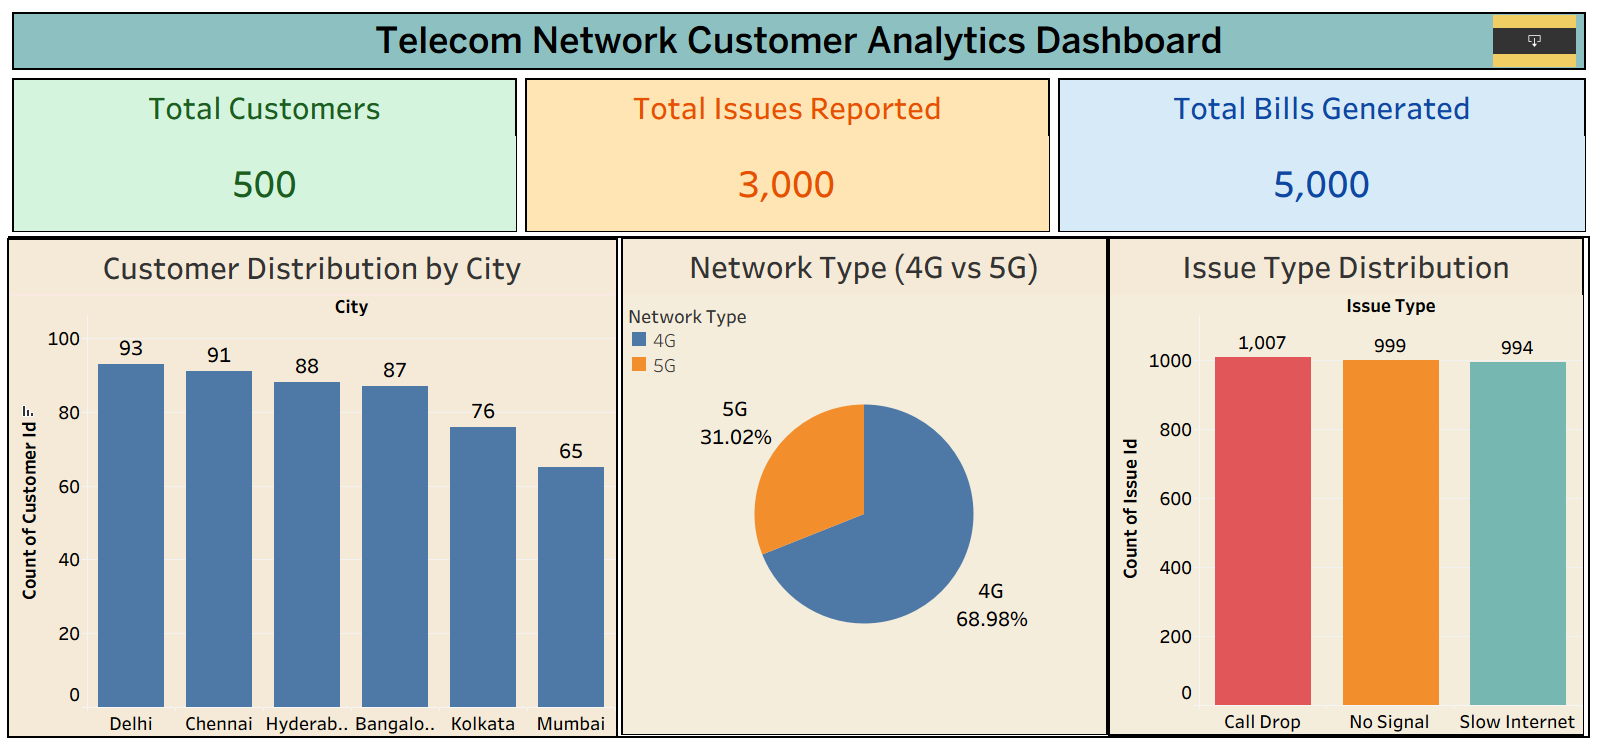

Layout of this report page (visuals, bound fields, positions):
{"tool":"tableau","page":{"name":"Dashboard 1","canvas":[1000,1000],"units":"permille","ordinal":0},"visuals":[{"type":"title","box":[5,10.7,990,88.5]},{"type":"dashboard-object","box":[934.3,20.1,51.9,69.7]},{"type":"worksheet","title":"Total Customers ","mark":"Text","box":[5,99.2,320.8,217]},{"type":"worksheet","title":"Total Issues Reported","mark":"Automatic","box":[325.8,99.2,333.5,217]},{"type":"worksheet","title":"Total Bills Generated","mark":"Automatic","box":[659.4,99.2,335.6,217]},{"type":"worksheet","title":"Network Type (4G vs 5G)","mark":"Pie","box":[388.7,317.7,304.4,667.6]},{"type":"worksheet","title":"Issue Type Distribution","mark":"Automatic","rows":["issue_id"],"cols":["issue_type"],"box":[693.6,317.7,297.6,668.9]},{"type":"worksheet","title":"Customer Distribution by City","mark":"Automatic","rows":["customer_id"],"cols":["city"],"box":[4.4,319,382.1,670.2]},{"type":"legend","title":"Network Type (4G vs 5G)","param":"[federated.1slniqr1t9pas110ldm1h07g8ru1].[none:network_type:nk]","box":[392.3,403.5,87.2,101.9]}]}

Visuals, with their boxes on the dashboard's canvas, which has no fixed pixel size, in thousandths of its width and height (x1, y1, x2, y2). These are canvas units, not pixel positions in the 1598x746 screenshot, which may show the page scaled, cropped or inside an application window:
title: [5,11,995,99]
dashboard-object: [934,20,986,90]
"Total Customers " worksheet (Text marks): [5,99,326,316]
"Total Issues Reported" worksheet: [326,99,659,316]
"Total Bills Generated" worksheet: [659,99,995,316]
"Network Type (4G vs 5G)" worksheet (Pie marks): [389,318,693,985]
"Issue Type Distribution" worksheet: [694,318,991,987]
"Customer Distribution by City" worksheet: [4,319,386,989]
"Network Type (4G vs 5G)" legend: [392,404,480,505]
